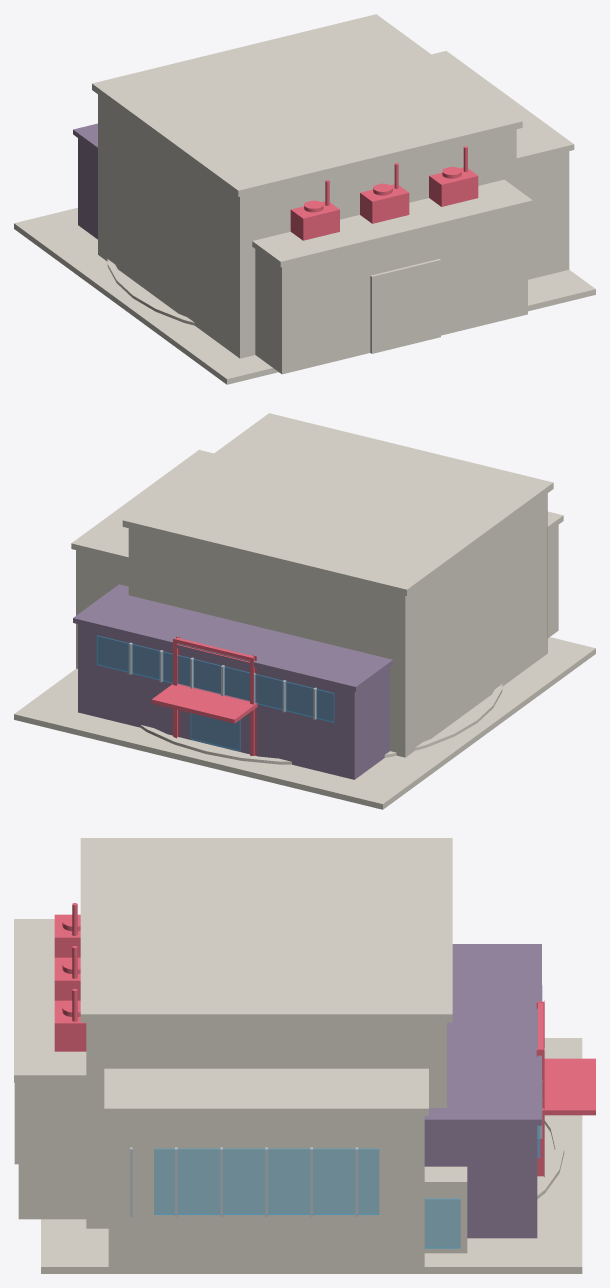
The model's file is hq_12_quality_l4.glb.
3 renders of one model, top to bottom at view 1: azimuth 30°, elevation 25°; view 2: azimuth 150°, elevation 25°; view 3: azimuth 270°, elevation 25°, orthographic. The views are drawn at different scales.
Visible parts, largest first — view 1: GEO_Quality_NDT_Vault_Shell, GEO_Quality_Weathering_Bay_Shell, GEO_Quality_Foundation_Plinth, GEO_Quality_CMM_Cleanroom_Shell, GEO_Quality_Chiller_Exhaust_Array, GEO_Quality_Lavender_Brick_Panels; view 2: GEO_Quality_NDT_Vault_Shell, GEO_Quality_Lavender_Brick_Panels, GEO_Quality_Foundation_Plinth, GEO_Quality_Office_Glazing, GEO_Quality_CMM_Cleanroom_Shell, GEO_Quality_Coral_Structural_Beams, GEO_Quality_Weathering_Bay_Shell, GEO_Quality_Aluminum_Mullions; view 3: GEO_Quality_NDT_Vault_Shell, GEO_Quality_CMM_Cleanroom_Shell, GEO_Quality_Lavender_Brick_Panels, GEO_Quality_Weathering_Bay_Shell, GEO_Quality_Foundation_Plinth, GEO_Quality_CMM_Observation_Glass, GEO_Quality_Chiller_Exhaust_Array, GEO_Quality_Coral_Structural_Beams, GEO_Quality_CMM_Mullions.
Part boxes in pixels (bbox=[...]): GEO_Quality_NDT_Vault_Shell: bbox=[92, 14, 522, 358]; GEO_Quality_Weathering_Bay_Shell: bbox=[252, 179, 532, 374]; GEO_Quality_Foundation_Plinth: bbox=[14, 207, 595, 384]; GEO_Quality_CMM_Cleanroom_Shell: bbox=[431, 51, 574, 279]; GEO_Quality_Chiller_Exhaust_Array: bbox=[290, 146, 478, 240]; GEO_Quality_Lavender_Brick_Panels: bbox=[73, 123, 97, 239]; GEO_Quality_NDT_Vault_Shell: bbox=[122, 413, 553, 757]; GEO_Quality_Lavender_Brick_Panels: bbox=[73, 584, 393, 779]; GEO_Quality_Foundation_Plinth: bbox=[14, 637, 595, 809]; GEO_Quality_Office_Glazing: bbox=[96, 635, 334, 751]; GEO_Quality_CMM_Cleanroom_Shell: bbox=[71, 450, 213, 668]; GEO_Quality_Coral_Structural_Beams: bbox=[151, 636, 257, 755]; GEO_Quality_Weathering_Bay_Shell: bbox=[547, 511, 563, 638]; GEO_Quality_Aluminum_Mullions: bbox=[128, 642, 316, 719]; GEO_Quality_NDT_Vault_Shell: bbox=[80, 838, 452, 1228]; GEO_Quality_CMM_Cleanroom_Shell: bbox=[104, 1068, 467, 1266]; GEO_Quality_Lavender_Brick_Panels: bbox=[424, 944, 541, 1238]; GEO_Quality_Weathering_Bay_Shell: bbox=[14, 919, 86, 1219]; GEO_Quality_Foundation_Plinth: bbox=[41, 1038, 582, 1273]; GEO_Quality_CMM_Observation_Glass: bbox=[154, 1148, 460, 1248]; GEO_Quality_Chiller_Exhaust_Array: bbox=[54, 903, 86, 1051]; GEO_Quality_Coral_Structural_Beams: bbox=[536, 1000, 595, 1177]; GEO_Quality_CMM_Mullions: bbox=[130, 1147, 358, 1216].
Size of what is drawn, in the model's own units: 24.23 by 10.95 by 25.8.
